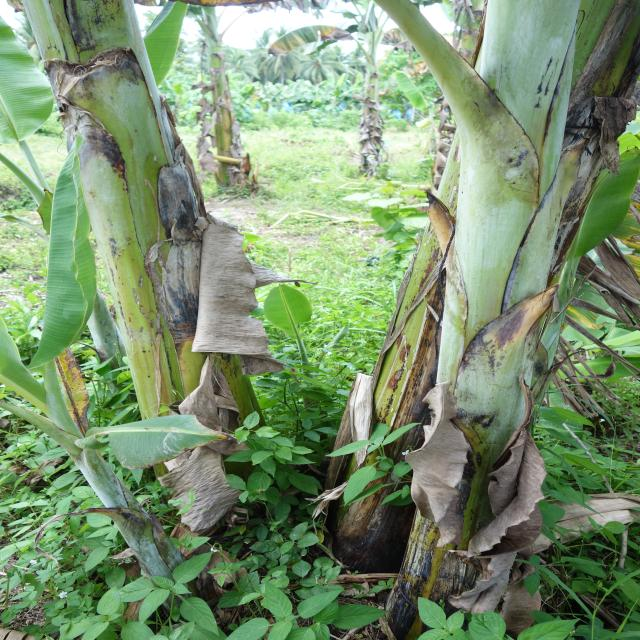Banana-plant: (0, 0, 281, 563), (421, 0, 640, 640), (316, 52, 490, 573)
